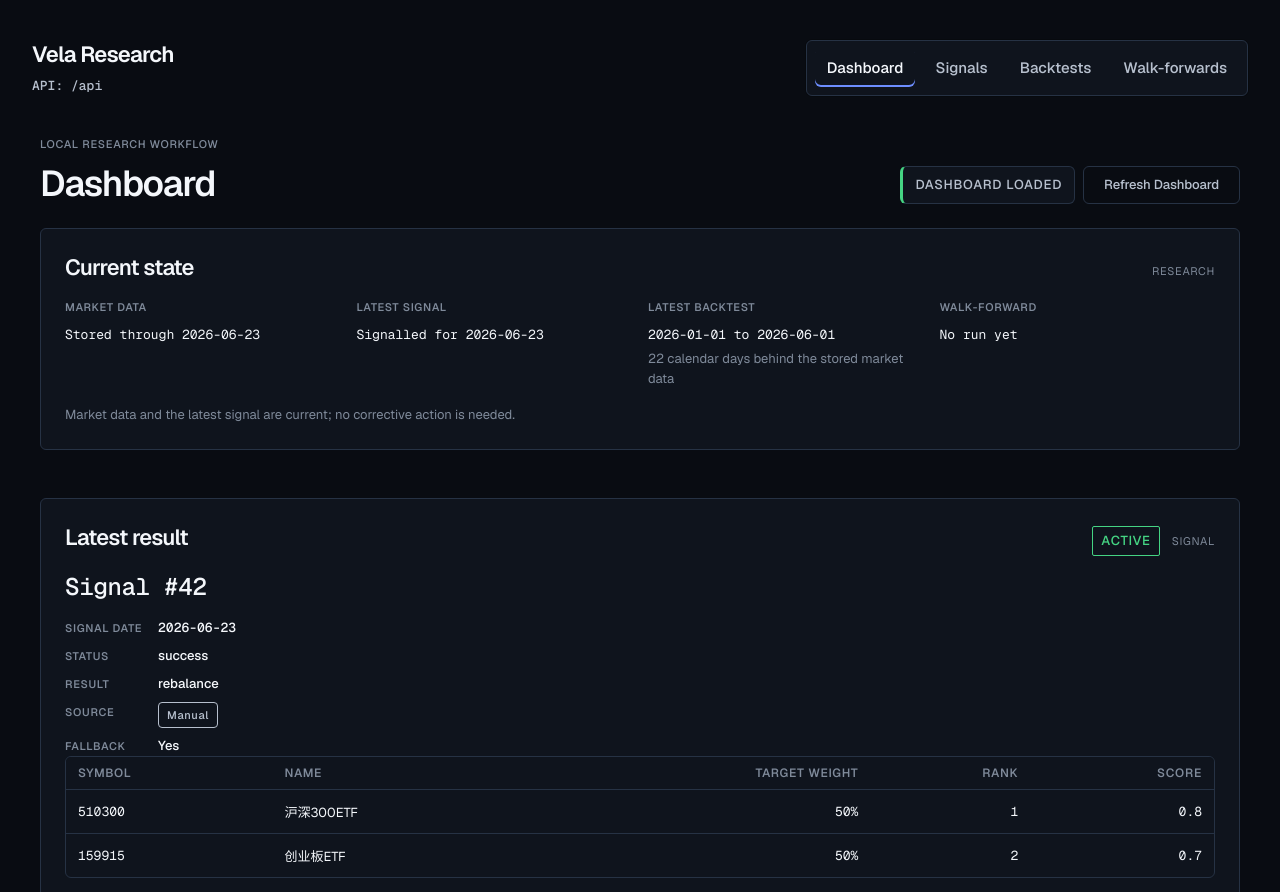
Test: manually refreshes Dashboard status from the shared Dashboard API
Click the button "Refresh Dashboard" at (1162, 185), box [1083,166,1240,204]
(page scrolled)
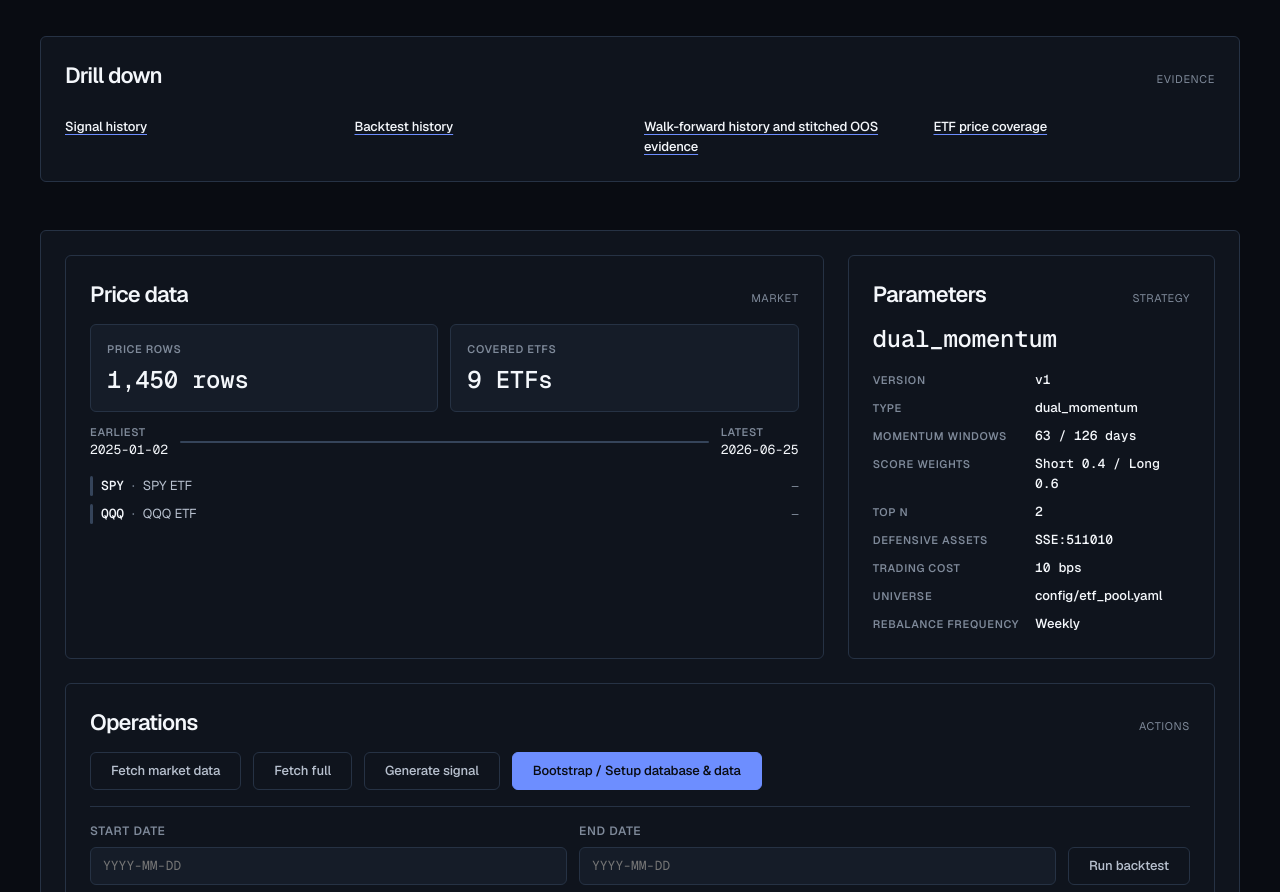
Check: the text "1,450 rows" is shown, box [107,364,249,395]
Check: the text "9 ETFs" is shown, box [467,364,552,395]
Check: the text "2026-06-25" is shown, box [721,440,799,460]
